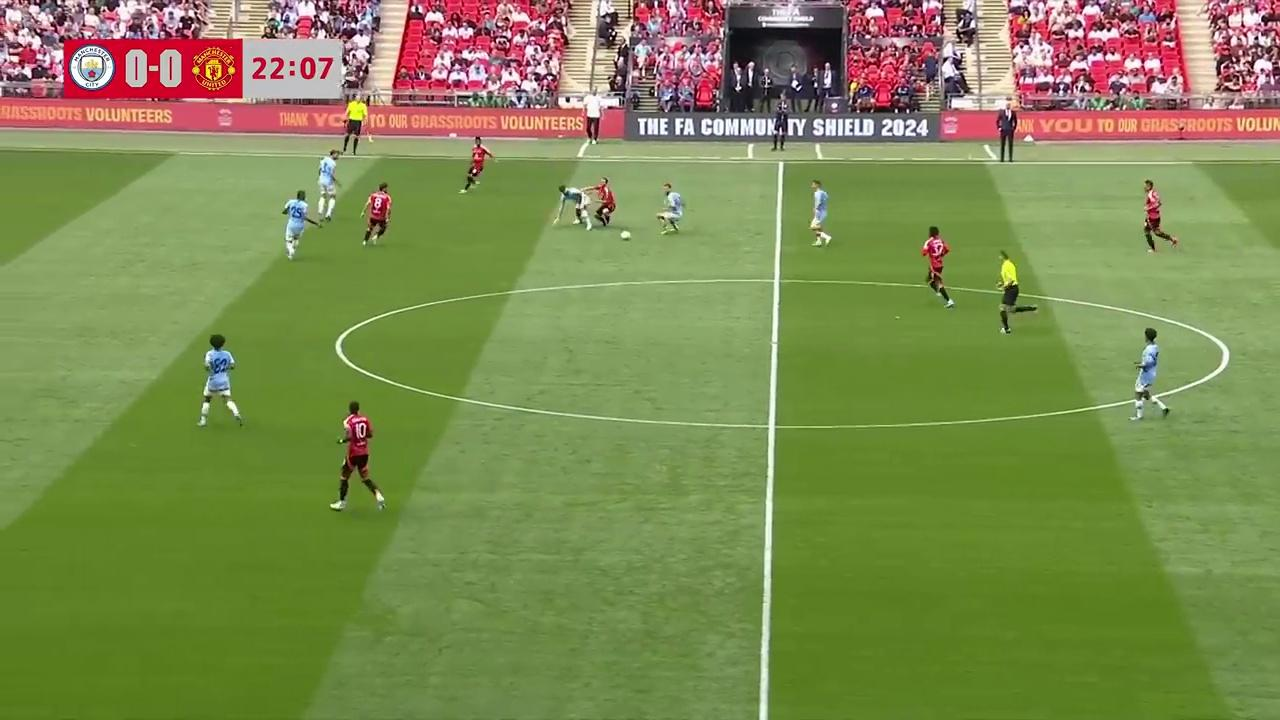ball: (619, 227, 631, 240)
player: (329, 401, 386, 511), (196, 335, 244, 429), (1130, 328, 1168, 420), (920, 226, 954, 308), (1143, 180, 1178, 253), (282, 189, 312, 259), (360, 182, 392, 247), (460, 137, 495, 193), (551, 184, 593, 227), (317, 149, 338, 222), (809, 179, 831, 247), (590, 177, 617, 230), (659, 182, 685, 234)
referee: (995, 252, 1031, 335), (343, 91, 374, 158)
